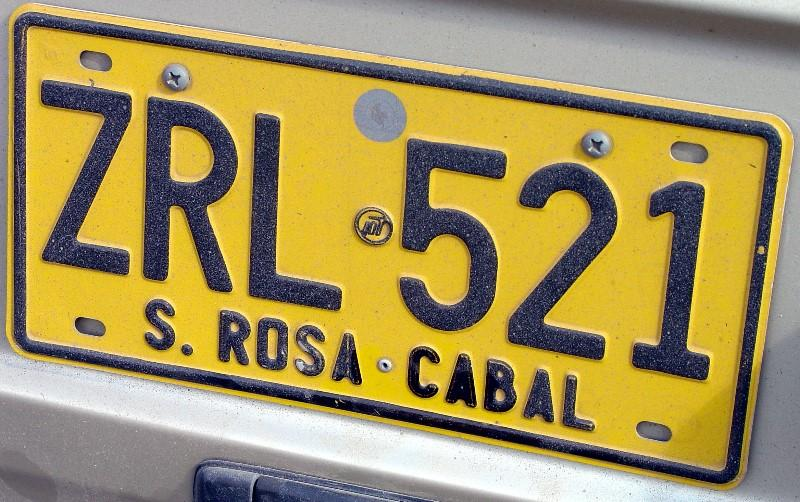placas: (3, 0, 797, 500)
